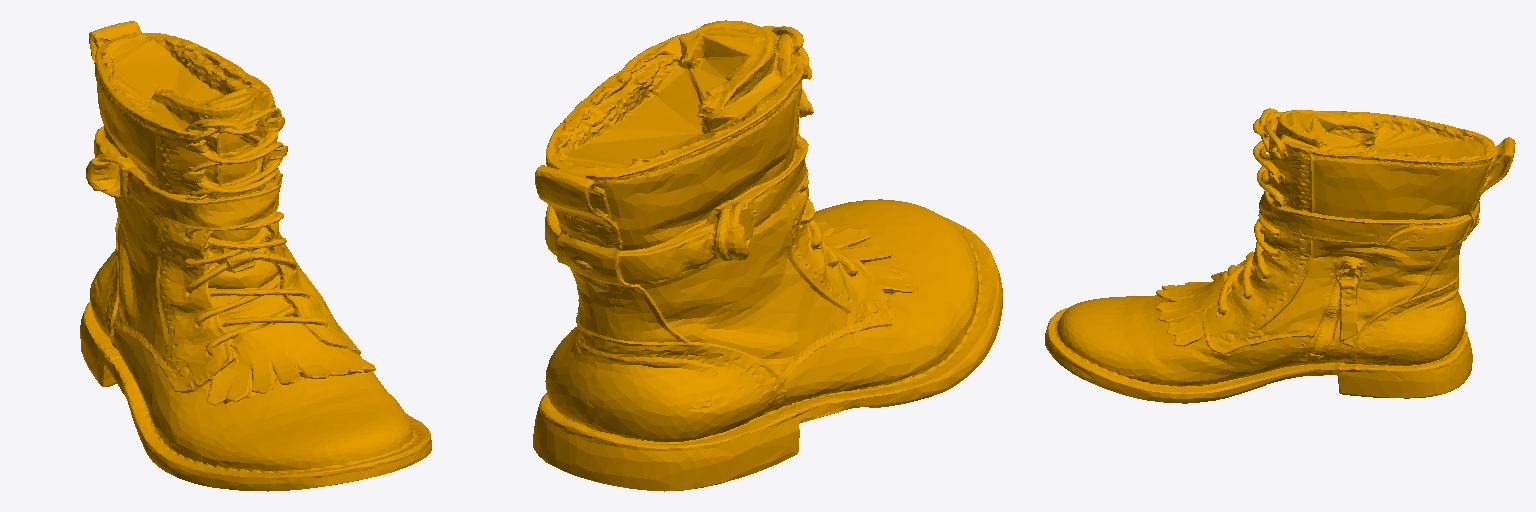
URDF robot description (287iao38):
<?xml version='1.0'?>

<robot name="287iao38">
    <static>false</static>
    <link name="link">
        <inertial>
            <mass value="0.06569456643312631"/>
            <inertia ixx="8.447197524384319e-05" ixy="-2.744288175083518e-06" ixz="-1.249867958348128e-06"
                     iyy="4.0267932119758955e-05" iyz="-1.7727767734410575e-05" izz="6.208295618605226e-05"/>
        </inertial>
        <collision name="collision">
            <geometry>
                <mesh filename="package://miscnet/train/287iao38/collision_model_vhacd.obj"/>
            </geometry>
        </collision>
        <visual name="visual">
            <geometry>
                <mesh filename="package://miscnet/train/287iao38/visual_model.obj"/>
            </geometry>
        </visual>
    </link>
</robot>

--- Render facts (derived) ---
3 views of the same robot in one strip: view 1: azimuth 30°, elevation 25°; view 2: azimuth 150°, elevation 25°; view 3: azimuth 270°, elevation 25° (orthographic).
Robot: 287iao38 — 1 links, 0 joints (none); root link link; default pose: every joint at zero.
Visible links, largest first — view 1: link; view 2: link; view 3: link.
Link boxes in pixels (<box>): link: <box>80,21,431,491</box>; link: <box>533,20,1002,491</box>; link: <box>1045,108,1515,403</box>.
Bounding box of the posed robot: 0.0644 × 0.1394 × 0.0809 m (x, y, z).
Meshes: 1 distinct files referenced, 1 mesh visuals loaded (1 OBJ).
